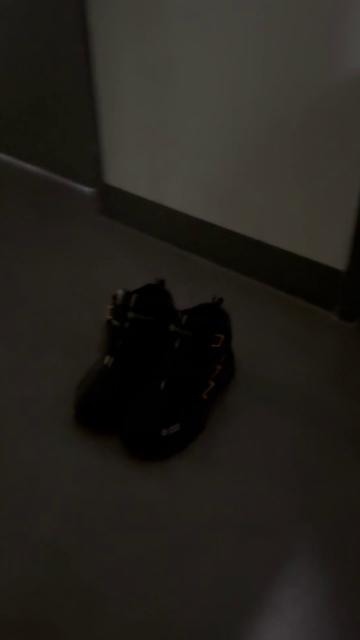shoe_worn: (114, 297, 234, 463), (66, 282, 172, 442)
